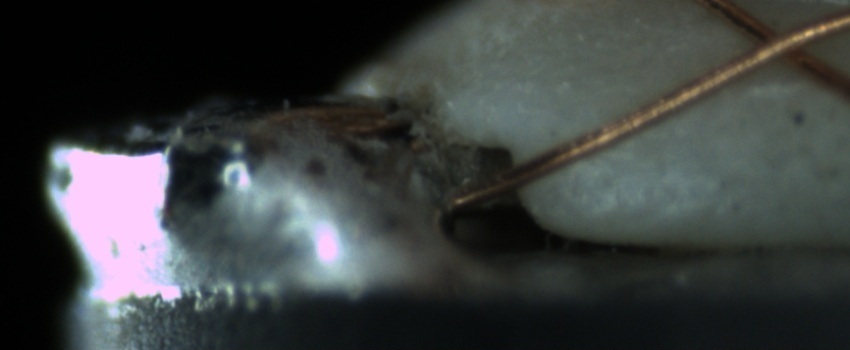CL: (728, 10, 827, 76)
